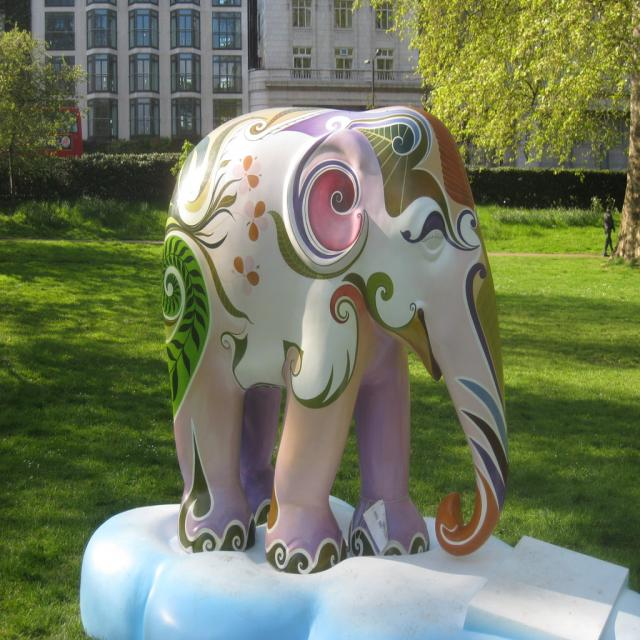elephant: (138, 73, 503, 572)
